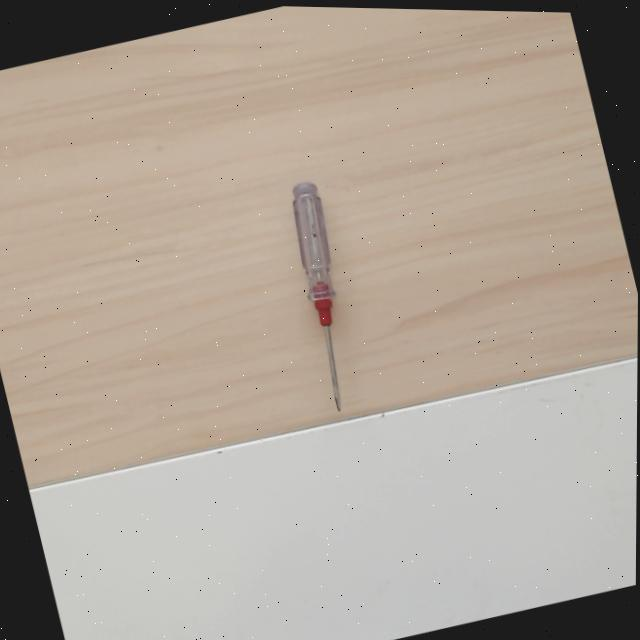Obeng-Kecil: (288, 180, 355, 413)
